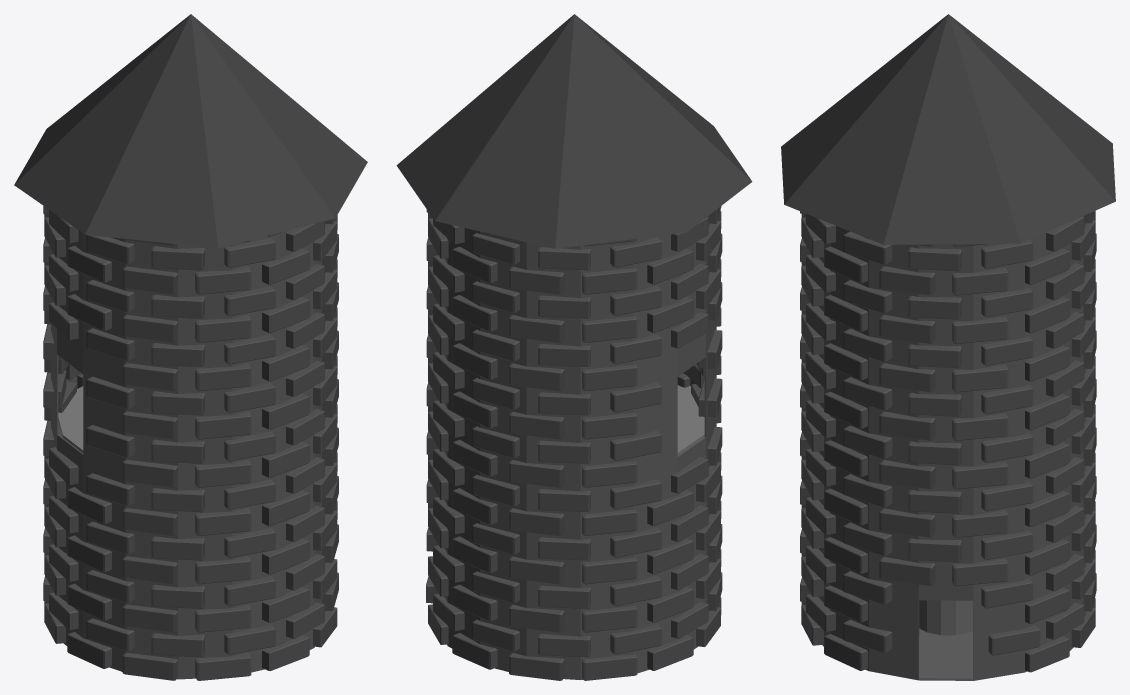
File: tower.fbx
The picture shows the model from 3 angles, left to right: view 1: azimuth 30°, elevation 25°; view 2: azimuth 150°, elevation 25°; view 3: azimuth 270°, elevation 25°; orthographic projection.
Visible parts, largest first — view 1: tower; view 2: tower; view 3: tower.
Boxes of the visible parts, x1,y1,x2,y2 form: tower: (14, 14, 367, 680); tower: (396, 14, 752, 680); tower: (781, 14, 1115, 680).
Size of the model in its own units: 1147 by 2303 by 1147.
